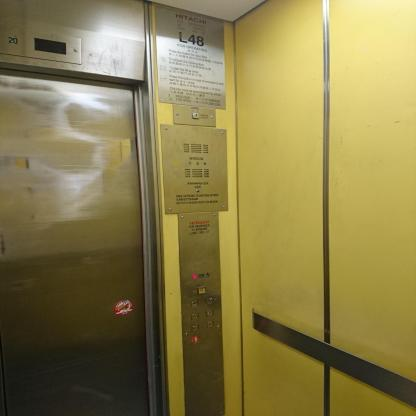14: (191, 324, 199, 332)
16: (191, 312, 199, 320)
18: (206, 320, 214, 328)
20: (206, 309, 214, 317)
G: (191, 335, 200, 344)
alarm: (197, 285, 206, 295)
close: (205, 297, 214, 304)
open: (190, 299, 199, 307)
